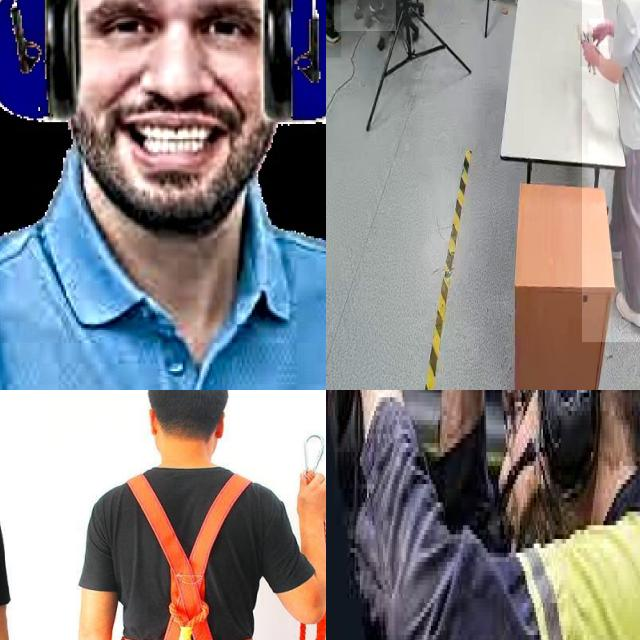Ear-protection: (0, 0, 326, 141), (528, 390, 607, 500)
Harness: (115, 470, 258, 640)
hand_noglove: (580, 34, 600, 68), (589, 19, 609, 46)
person: (581, 0, 640, 343)
shoes: (611, 285, 640, 332), (326, 12, 343, 47)
